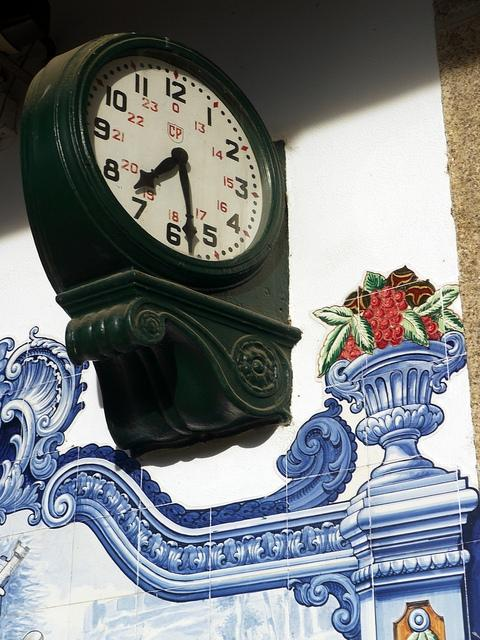grape: (380, 286, 396, 299), (370, 296, 384, 310), (385, 306, 399, 320), (426, 321, 439, 335), (383, 297, 396, 311), (393, 324, 404, 340), (346, 333, 356, 350), (390, 313, 403, 326), (363, 308, 375, 322), (348, 349, 362, 361), (379, 317, 391, 331), (373, 328, 384, 342), (394, 290, 406, 302), (383, 328, 395, 340), (420, 315, 432, 327), (375, 306, 386, 318), (397, 300, 408, 311), (376, 339, 388, 349), (429, 332, 441, 341), (370, 289, 380, 299), (370, 318, 379, 329), (340, 349, 349, 359)
